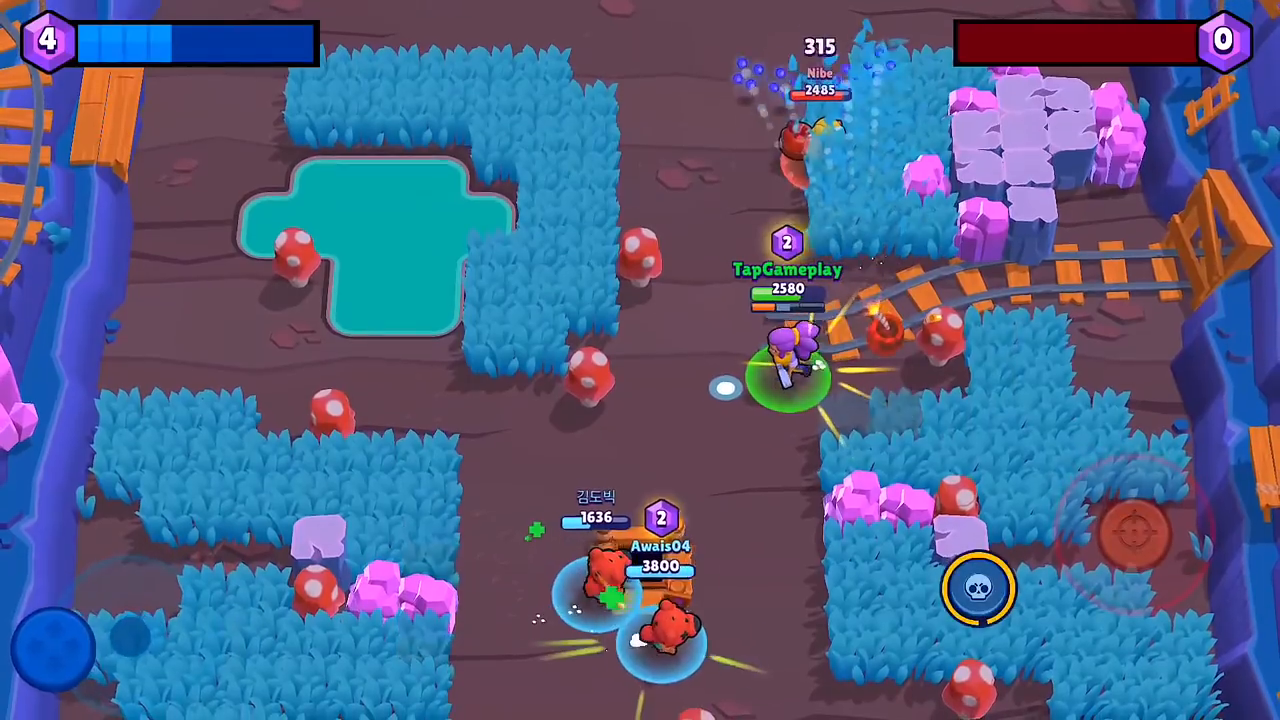move_stick: (10, 604, 94, 687)
red: (786, 67, 858, 206)
